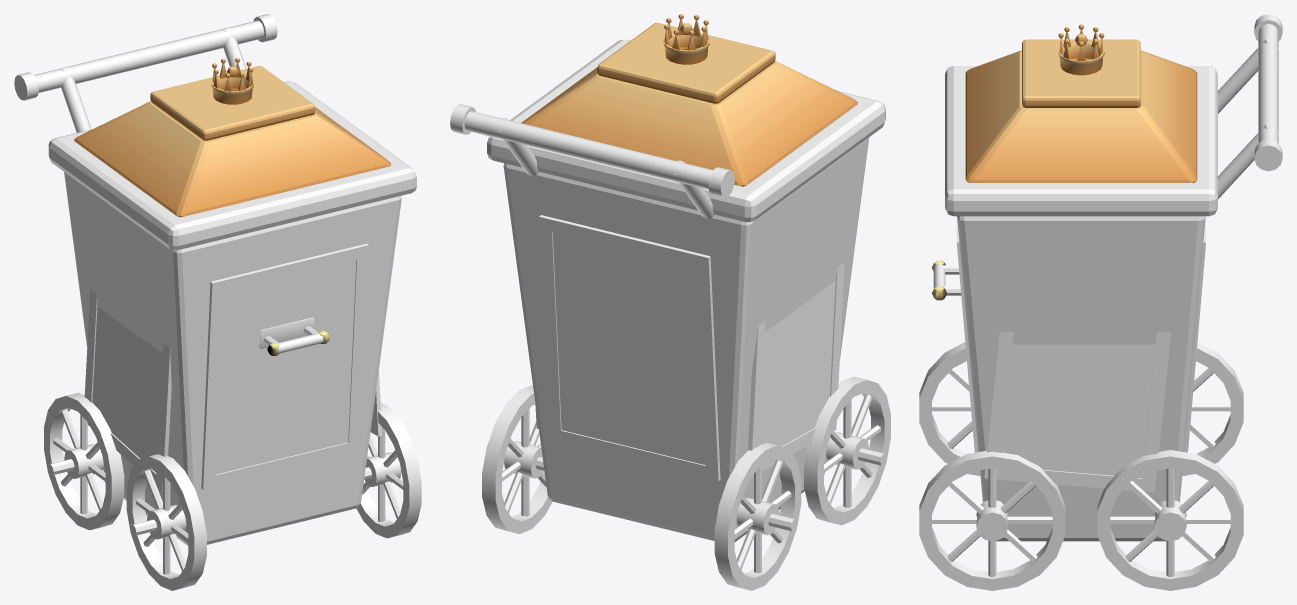
File: Gold_Wheelie_Bin.glb
The picture shows the model from 3 angles, left to right: view 1: azimuth 30°, elevation 25°; view 2: azimuth 150°, elevation 25°; view 3: azimuth 270°, elevation 25°; orthographic projection. The views are drawn at different scales.
Visible parts, largest first — view 1: WheelieBin_Body, Panel_F, Lid_Slope, Lid_Rim, Wheel_FL, Panel_L, Wheel_BL, Lid_Cap, Wheel_FR, PushBar, Frame_F_2, Frame_F_3 (+8 smaller); view 2: WheelieBin_Body, Panel_B, Lid_Slope, Lid_Rim, Wheel_BL, Panel_L, Wheel_FL, Lid_Cap, Wheel_BR, PushBar, Frame_B_2, Frame_B_3 (+8 smaller); view 3: WheelieBin_Body, Lid_Slope, Panel_R, Lid_Rim, Wheel_BR, Wheel_FR, Lid_Cap, Wheel_BL, Wheel_FL, PushBar, Frame_R_3, Frame_R_2 (+7 smaller).
Boxes of the visible parts, <box> form: WheelieBin_Body: <box>64,172,401,545</box>; Panel_F: <box>215,260,356,474</box>; Lid_Slope: <box>74,101,391,217</box>; Lid_Rim: <box>48,81,416,250</box>; Wheel_FL: <box>126,454,206,590</box>; Panel_L: <box>92,306,162,472</box>; Wheel_BL: <box>44,393,124,530</box>; Lid_Cap: <box>150,66,314,140</box>; Wheel_FR: <box>356,403,421,538</box>; PushBar: <box>34,20,264,92</box>; Frame_F_2: <box>202,292,223,477</box>; Frame_F_3: <box>348,257,368,442</box>; WheelieBin_Body: <box>503,137,869,541</box>; Panel_B: <box>552,232,705,464</box>; Lid_Slope: <box>521,61,857,186</box>; Lid_Rim: <box>487,39,885,222</box>; Wheel_BL: <box>714,442,801,590</box>; Panel_L: <box>759,281,835,446</box>; Wheel_FL: <box>804,376,890,525</box>; Lid_Cap: <box>597,22,775,103</box>; Wheel_BR: <box>482,385,552,534</box>; PushBar: <box>464,111,713,189</box>; Frame_B_2: <box>696,267,719,468</box>; Frame_B_3: <box>539,229,561,430</box>; WheelieBin_Body: <box>957,216,1205,541</box>; Lid_Slope: <box>965,50,1197,182</box>; Panel_R: <box>1001,344,1155,478</box>; Lid_Rim: <box>945,66,1217,216</box>; Wheel_BR: <box>1097,450,1243,590</box>; Wheel_FR: <box>919,451,1065,590</box>; Lid_Cap: <box>1022,39,1140,107</box>; Wheel_BL: <box>1182,342,1243,475</box>; Wheel_FL: <box>919,342,980,475</box>; PushBar: <box>1258,24,1278,143</box>; Frame_R_3: <box>1142,332,1171,479</box>; Frame_R_2: <box>987,332,1013,452</box>.
Size of the model in its own units: 0.5018 by 0.8341 by 0.5515.
5 materials, 3 textured.
